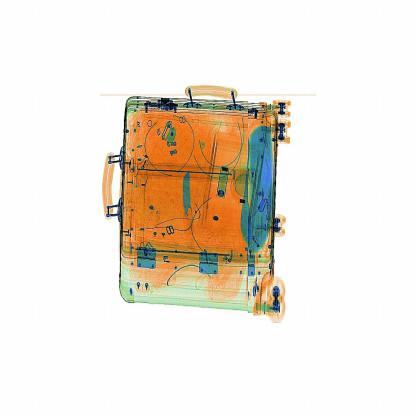wrench: (179, 169, 199, 246)
